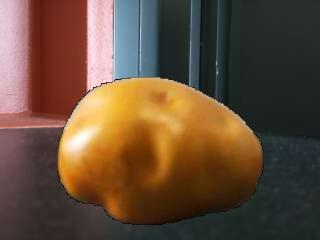Potato: (56, 76, 261, 226)
